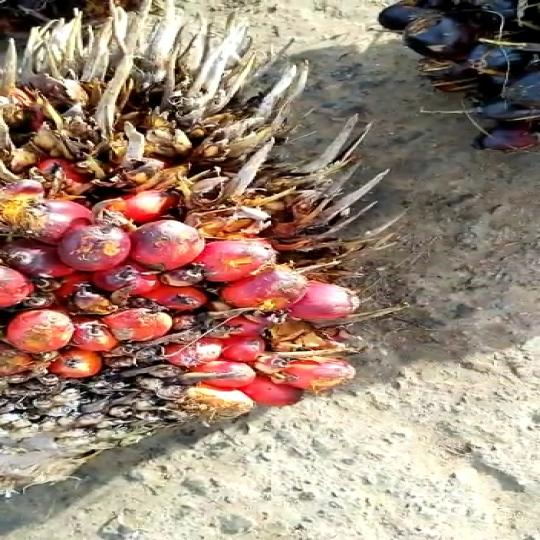terlalu masak: (0, 0, 408, 483)
